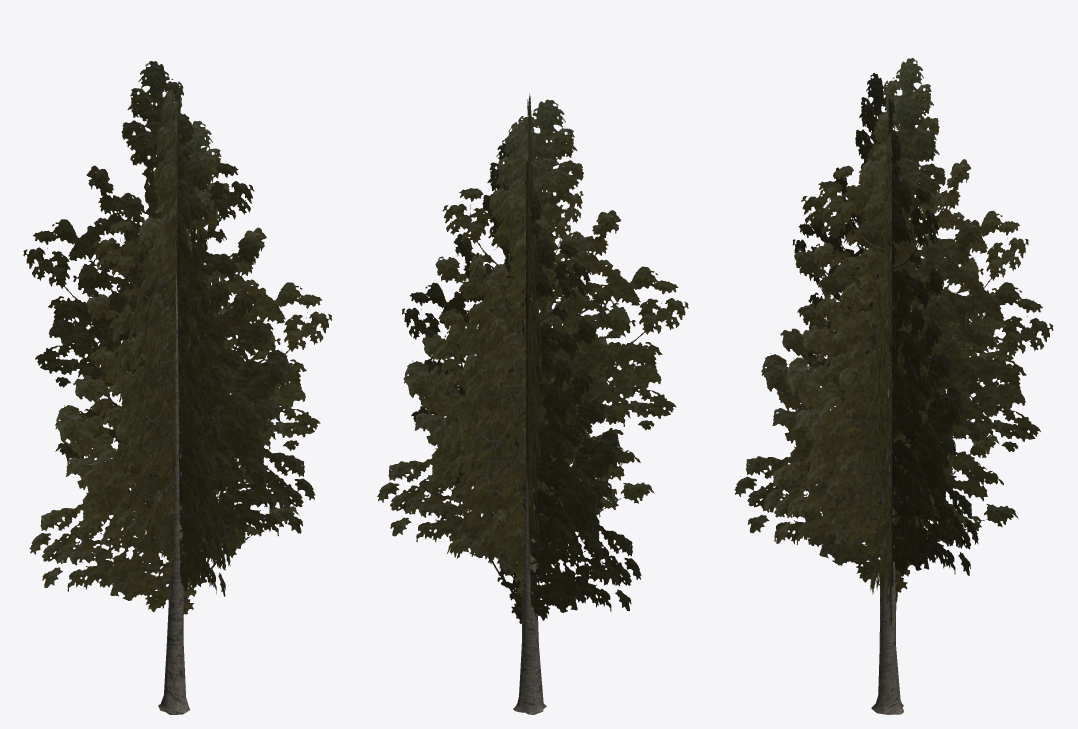
Rendered from tree_rt_2.obj.
3 views of the same model, side by side, from view 1: azimuth 30°, elevation 25°; view 2: azimuth 150°, elevation 25°; view 3: azimuth 270°, elevation 25° (orthographic). The views are drawn at different scales.
Parts seen in each view (by area): view 1: tree_rt_2; view 2: tree_rt_2; view 3: tree_rt_2.
Boxes of the visible parts, bbox=[...] form: tree_rt_2: bbox=[23, 61, 331, 714]; tree_rt_2: bbox=[377, 93, 688, 714]; tree_rt_2: bbox=[734, 58, 1053, 714].
Bounding box in the file's own units: 2.3 × 4.91 × 2.3.
